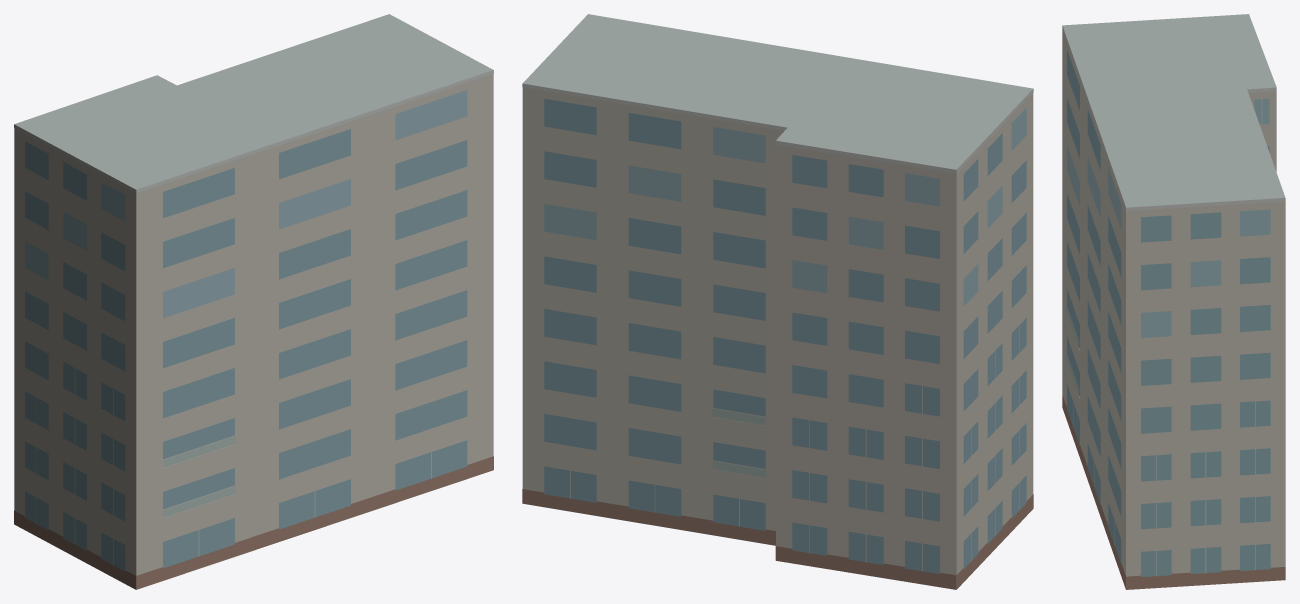
Rendered from survey-upis-32695073.glb.
3 renders of one model, left to right at view 1: azimuth 30°, elevation 25°; view 2: azimuth 150°, elevation 25°; view 3: azimuth 270°, elevation 25°, orthographic. The views are drawn at different scales.
Visible parts, largest first — view 1: survey-upis-32695073.tmp; view 2: survey-upis-32695073.tmp; view 3: survey-upis-32695073.tmp.
Boxes of the visible parts, bbox=[...] form: survey-upis-32695073.tmp: bbox=[14, 14, 493, 589]; survey-upis-32695073.tmp: bbox=[522, 14, 1033, 589]; survey-upis-32695073.tmp: bbox=[1062, 14, 1285, 589].
Size of the model in its own units: 28.6 by 26.33 by 13.94.
